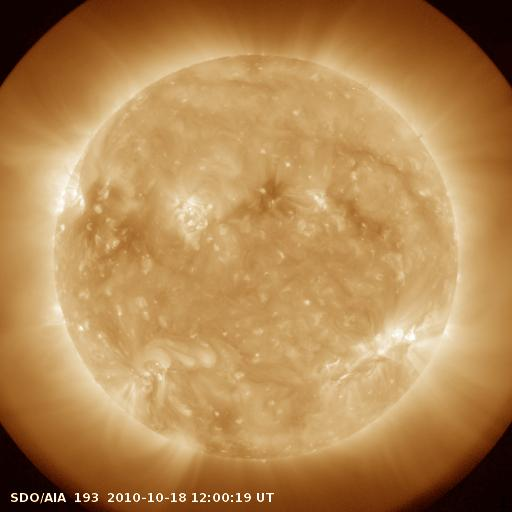coronal_hole: (77, 176, 146, 252), (247, 170, 292, 218)
